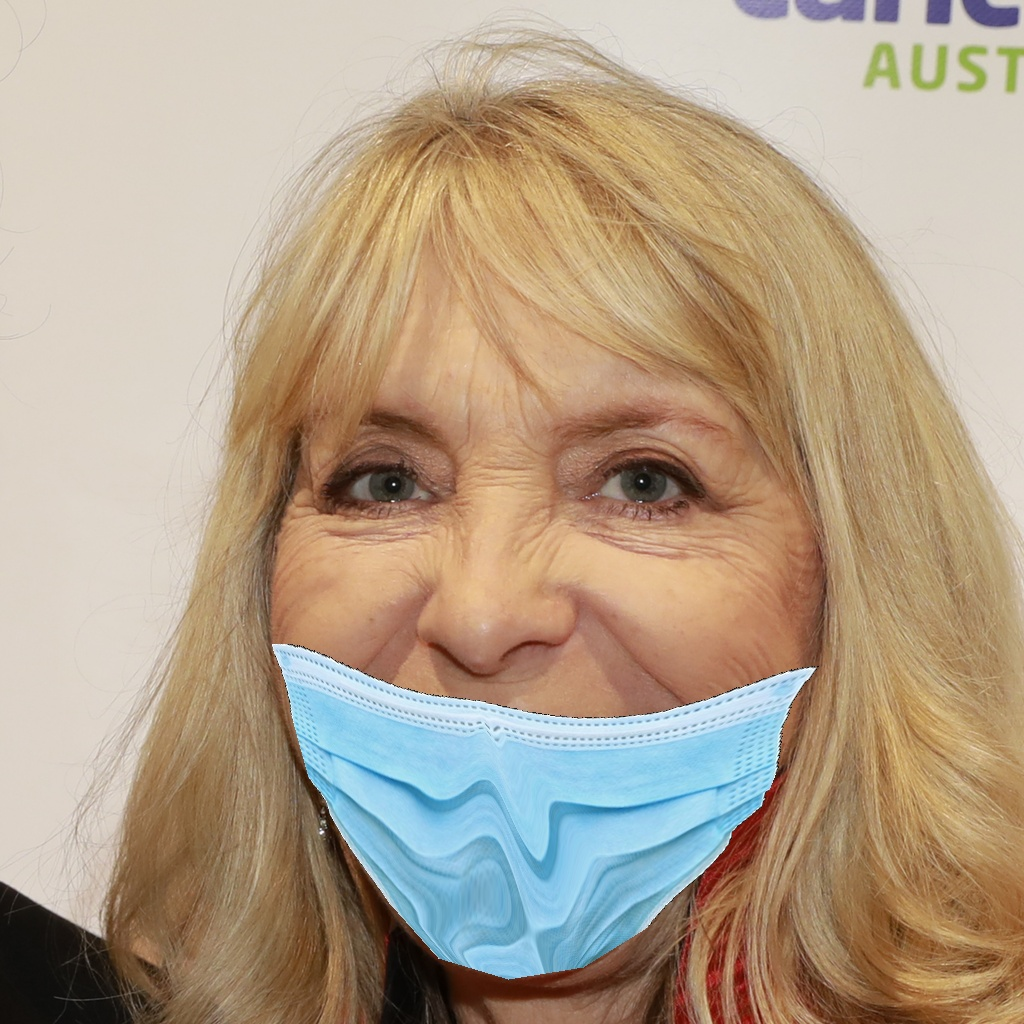mascarilla_mal_puesta: (267, 425, 797, 1013)
